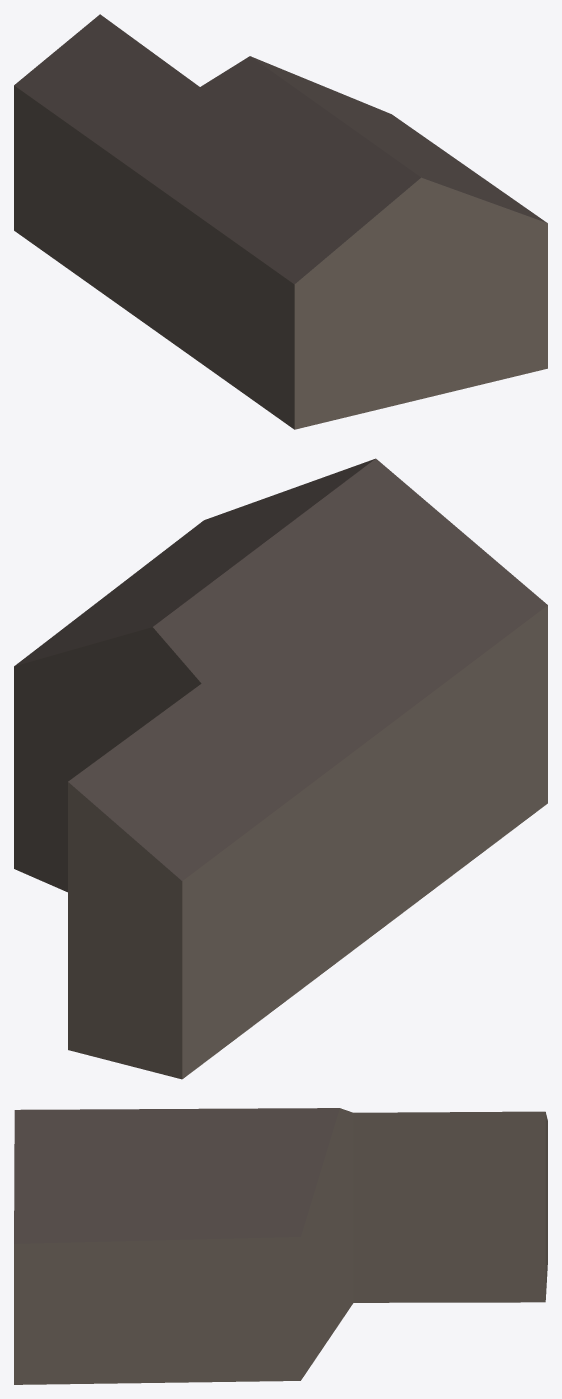
3 renders of one model, top to bottom at view 1: azimuth 30°, elevation 25°; view 2: azimuth 150°, elevation 25°; view 3: azimuth 270°, elevation 25°, orthographic. The views are drawn at different scales.
Visible parts, largest first — view 1: HP-w1515071119; view 2: HP-w1515071119; view 3: HP-w1515071119.
Boxes of the visible parts, bbox=[...] form: HP-w1515071119: bbox=[14, 14, 547, 429]; HP-w1515071119: bbox=[14, 458, 547, 1079]; HP-w1515071119: bbox=[14, 1108, 547, 1384].
Bounding box in the file's own units: 16.8 × 13.73 × 30.88.
